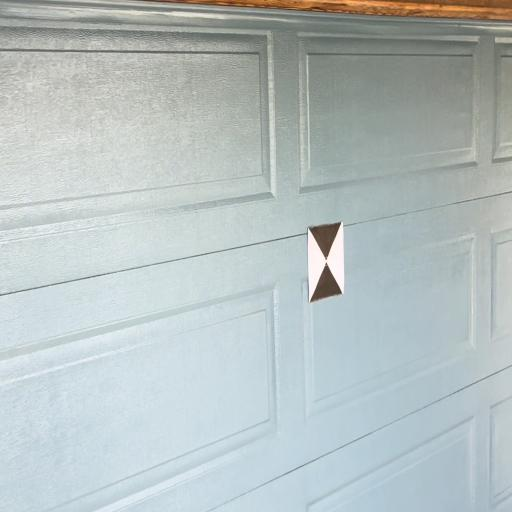target: (308, 224, 344, 299)
